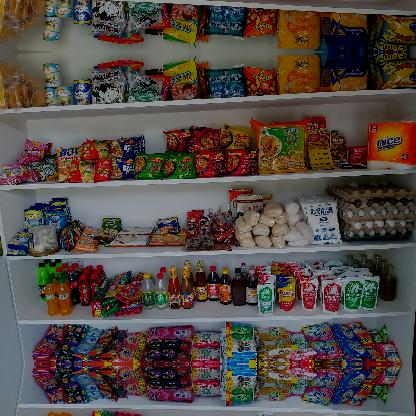Lady-s-Choice: (27, 224, 59, 256)
